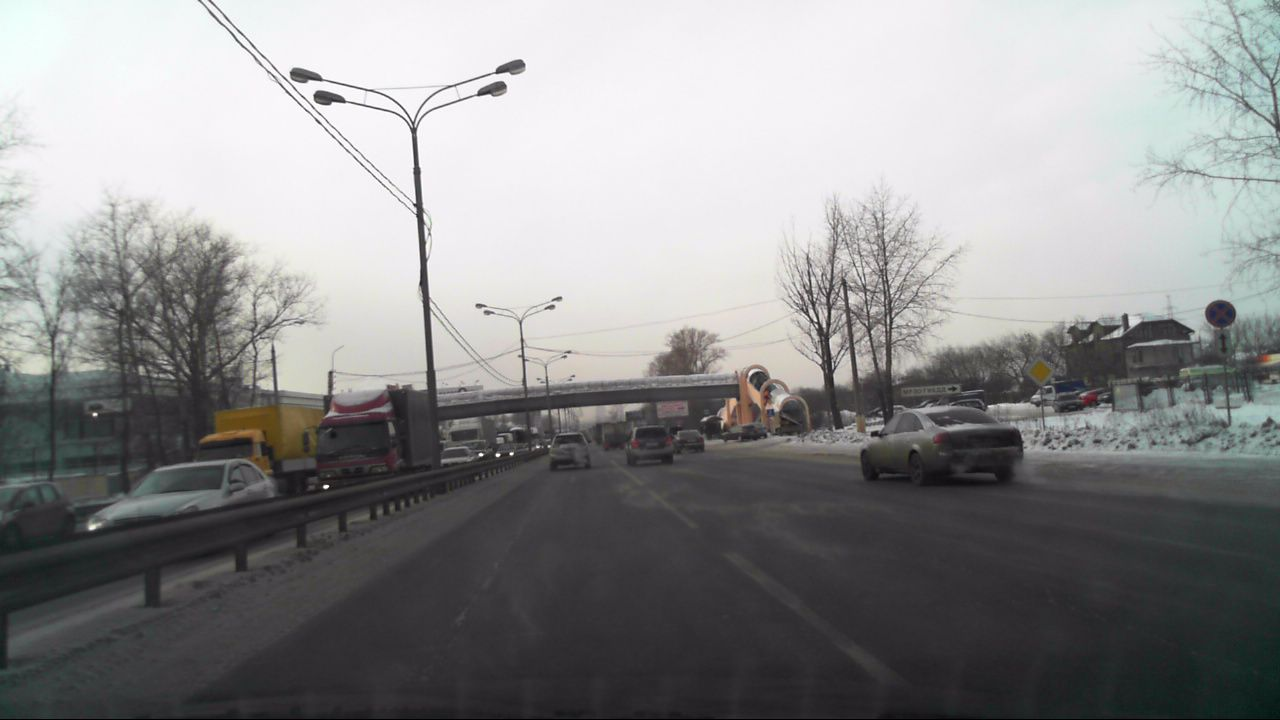No Parking: (1205, 298, 1236, 328)
